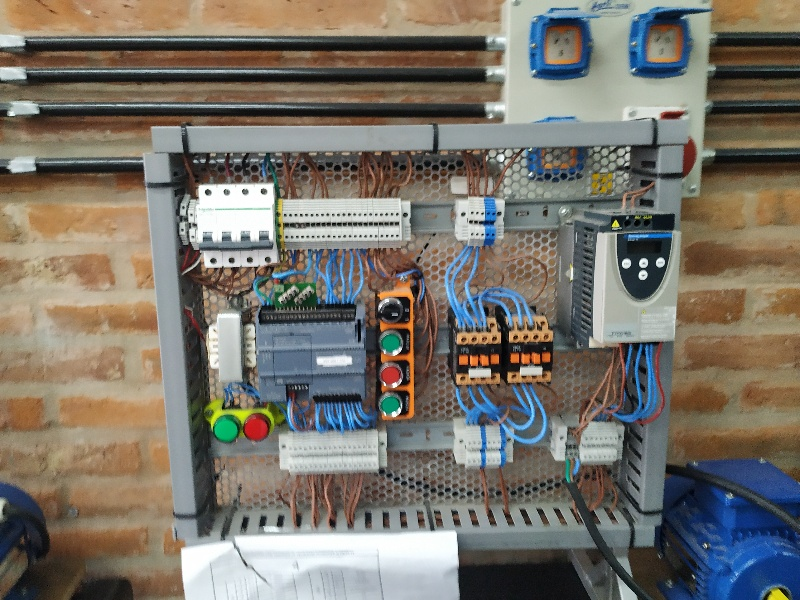Tablero 4: (162, 146, 683, 525)
